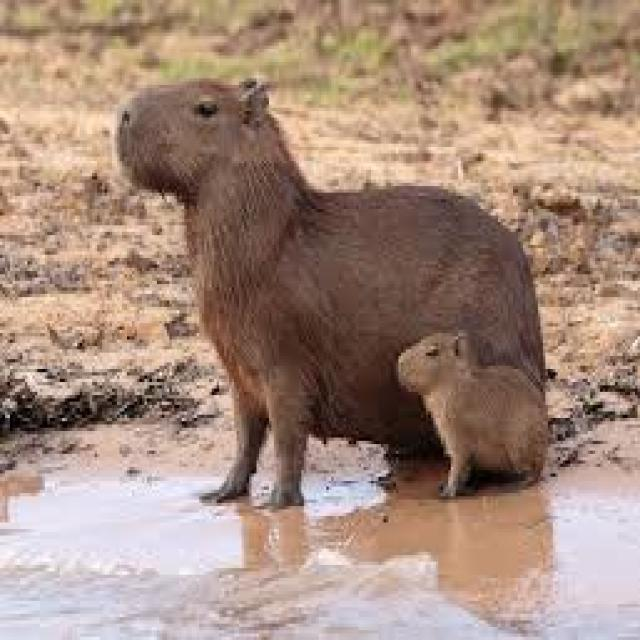capy: (114, 74, 544, 510), (397, 327, 551, 500)
